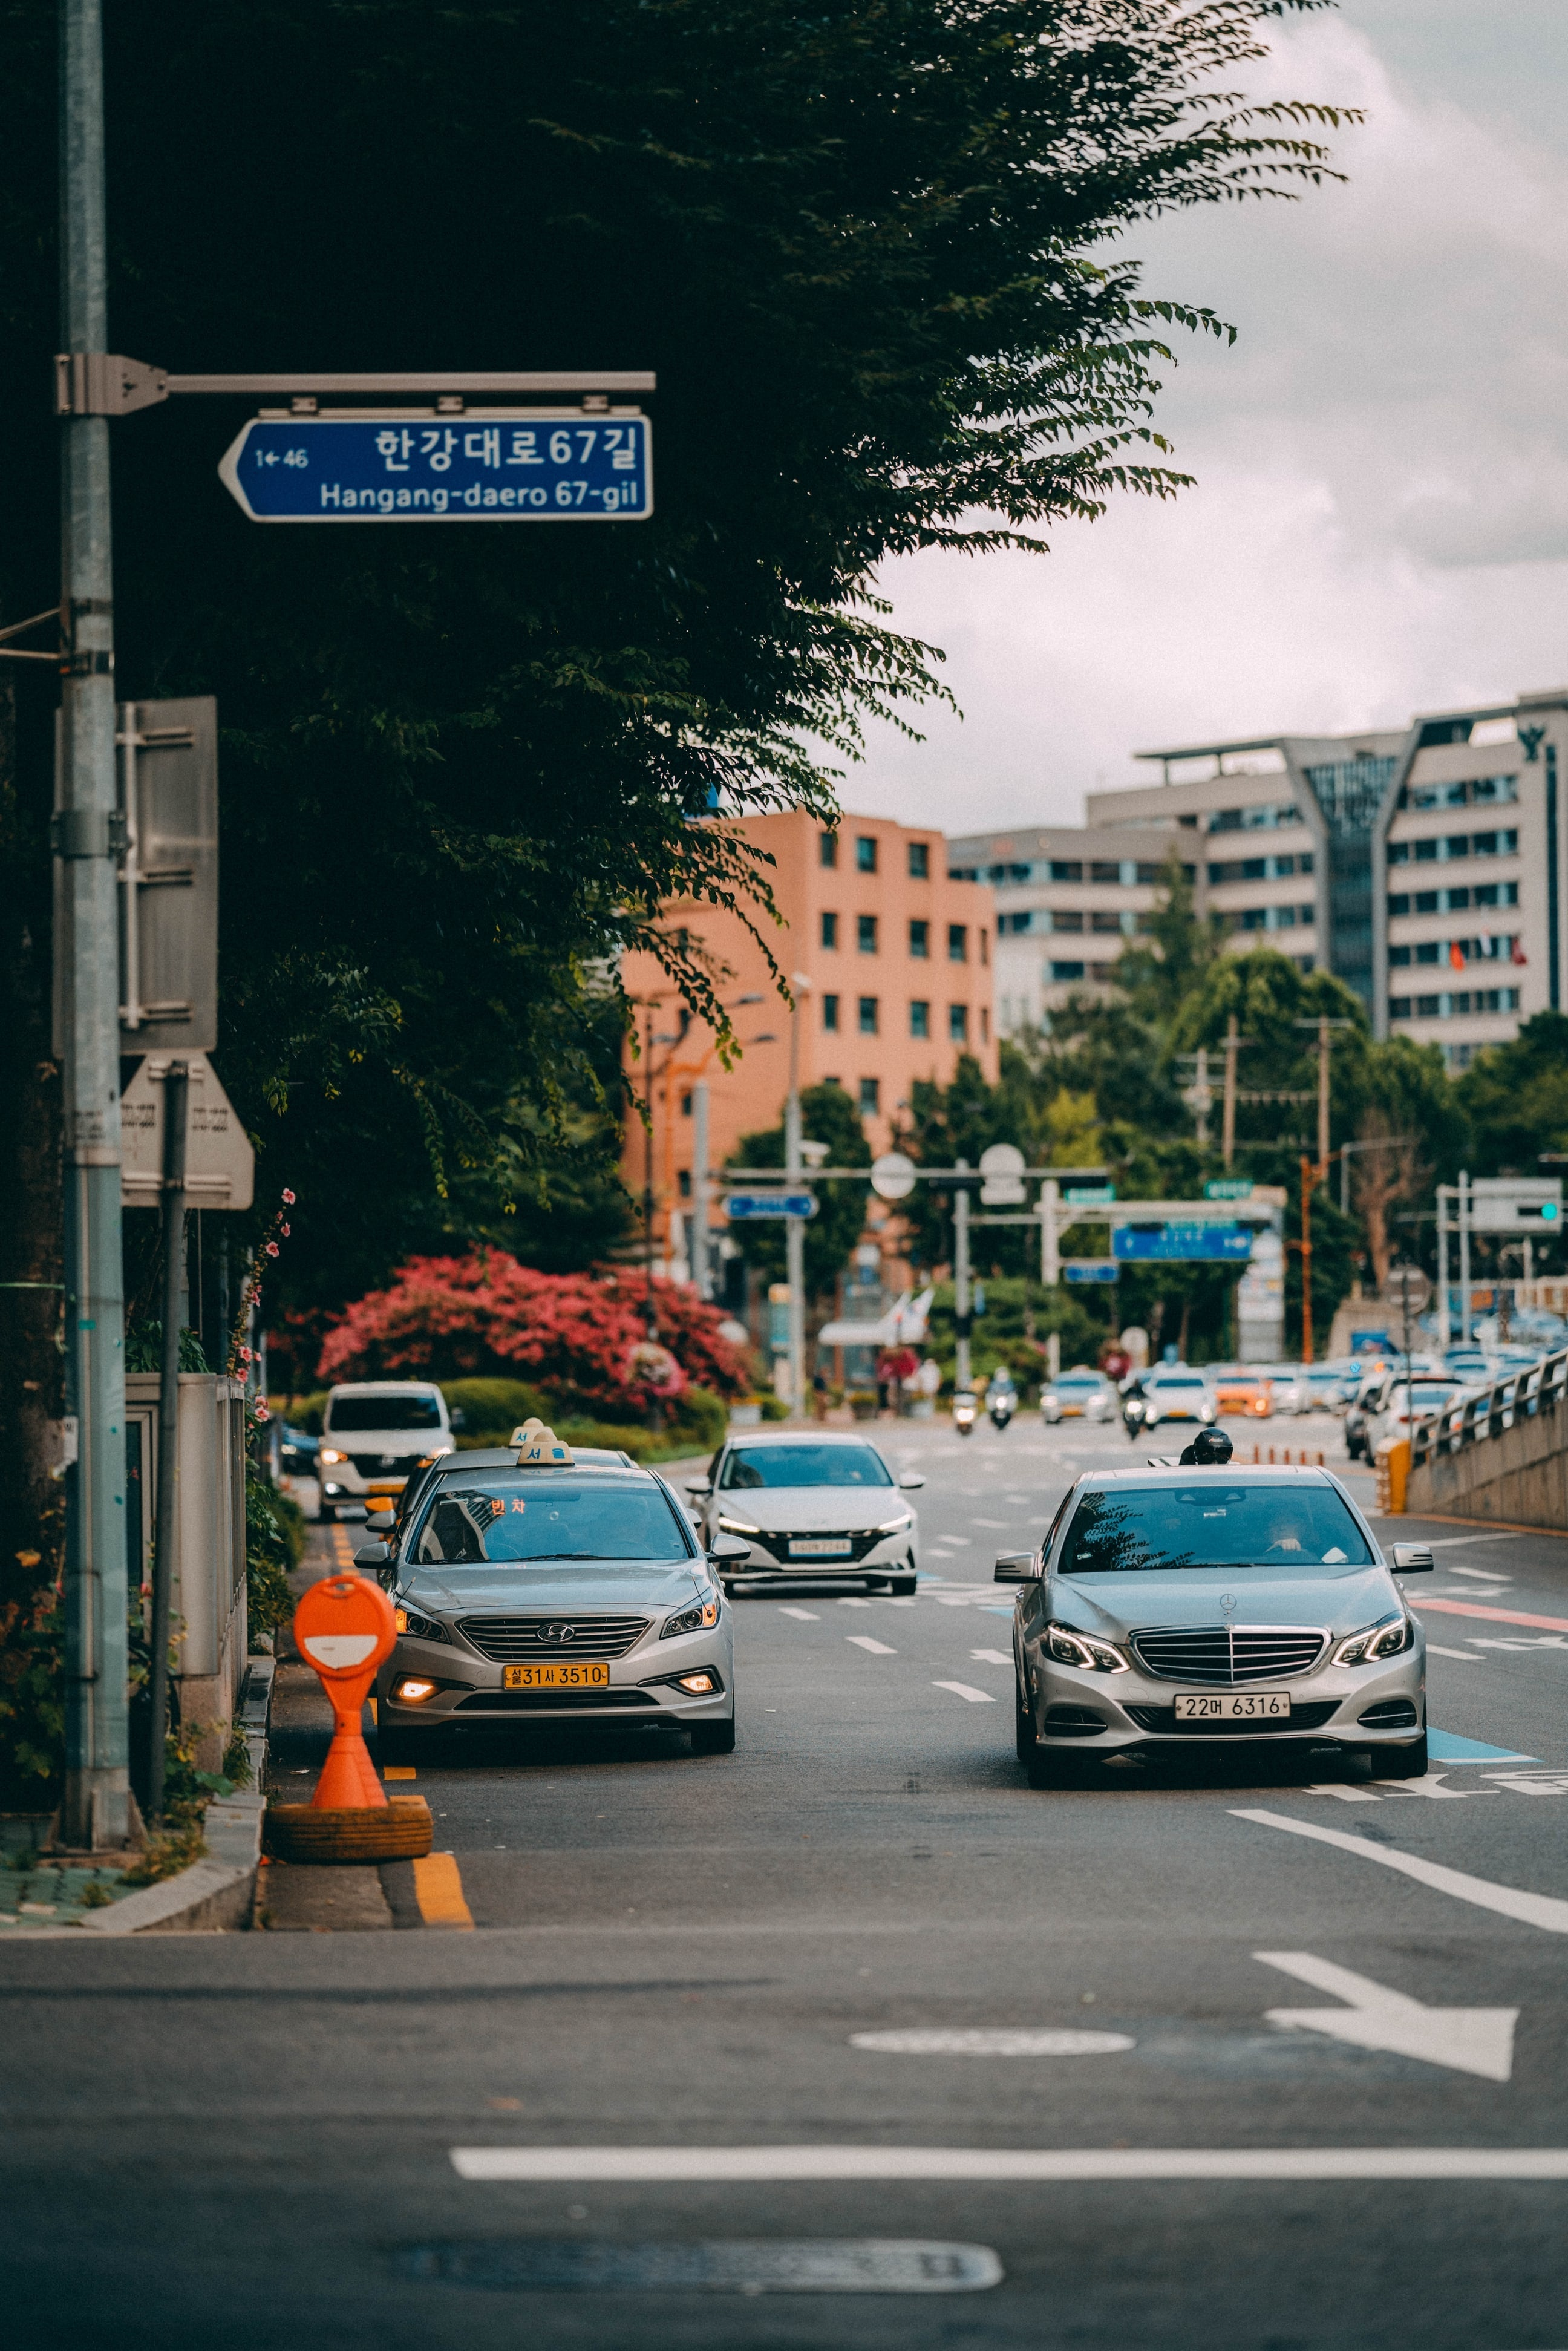plaka: (1173, 1691, 1292, 1720)
